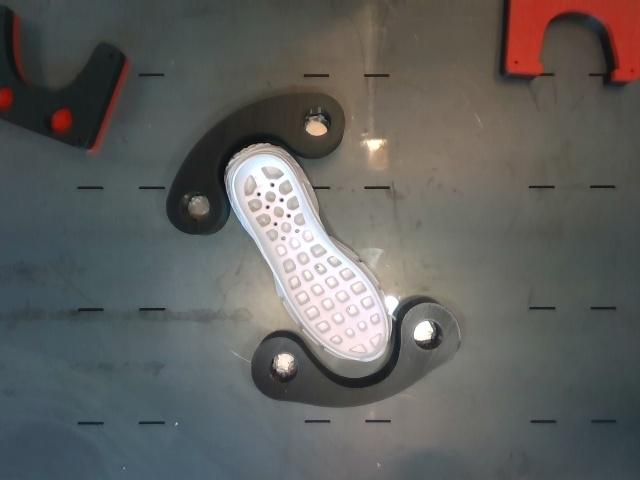shoes: (233, 155, 387, 360)
